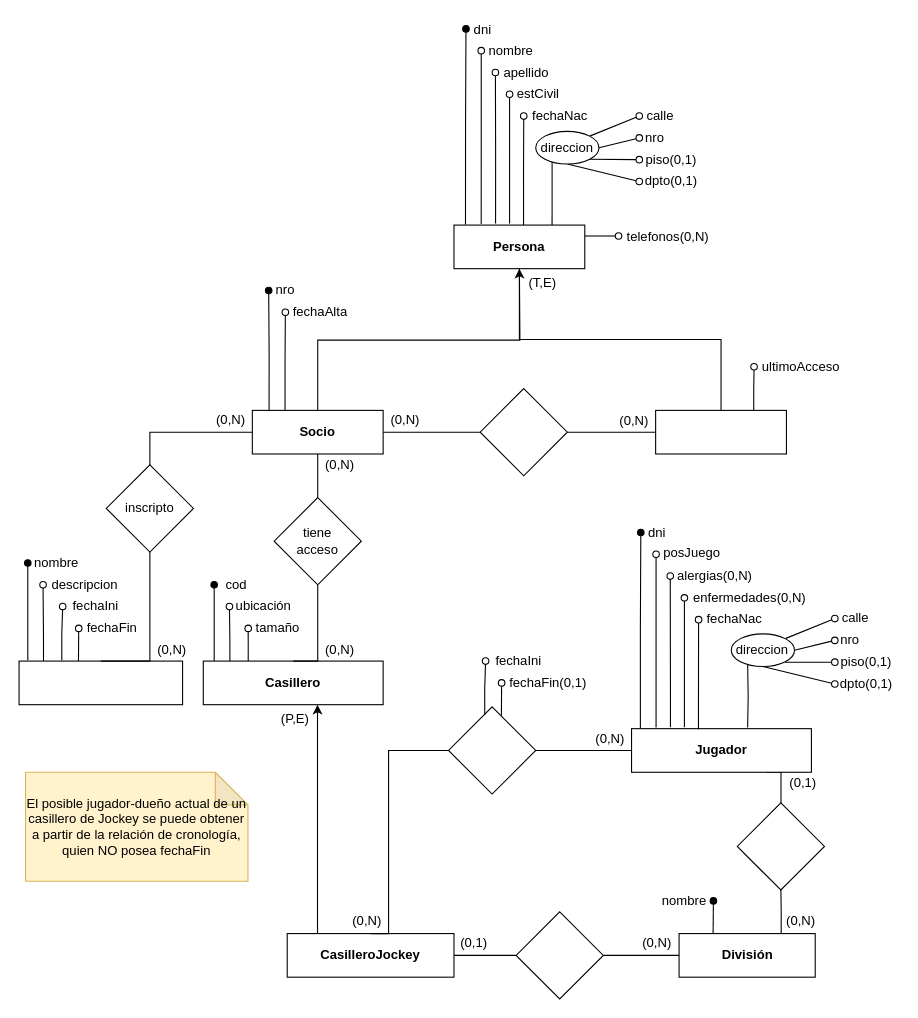
Image size: 918x1018. Some labels were removed from this diagram. The shapes that lost their labels are listed below. From the top down, each one's centre as x and y in pixels, then its label:
At (523,431): "tiene vínculo".
At (720,431): "Asistente".
At (100,682): "Actividad".
At (491,750): "cronología".
At (780,846): "juega en".
At (559,955): "corresponde".
